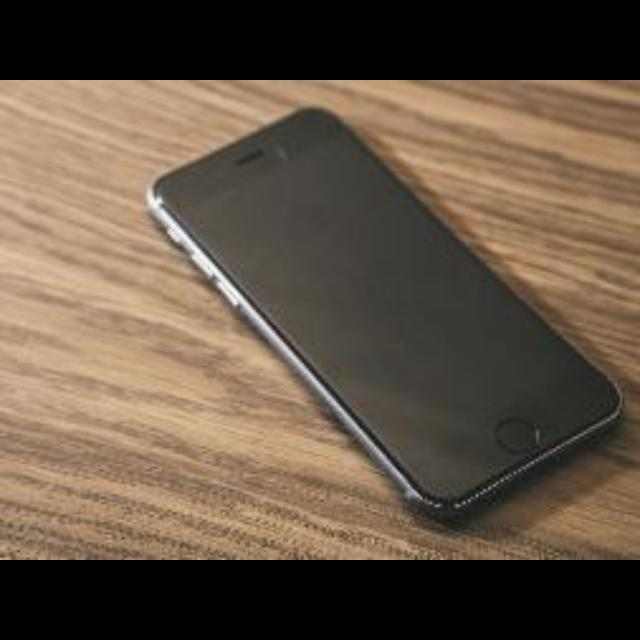Phone: (147, 104, 627, 512)
